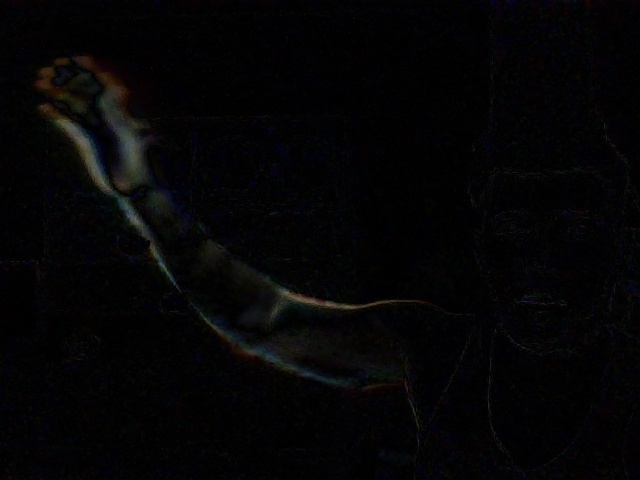arm_fo: (33, 41, 287, 346)
